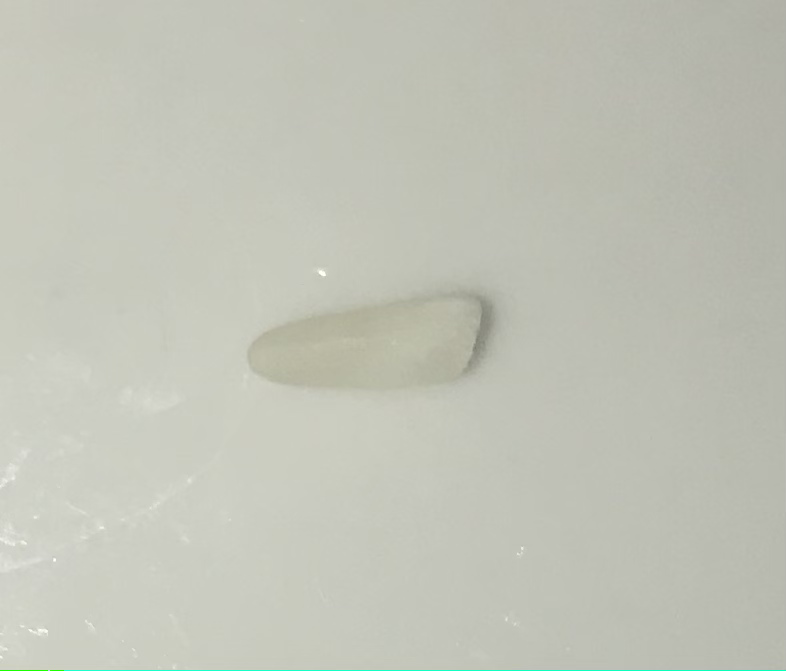Gao Thom Go Cong: (241, 277, 493, 410)
